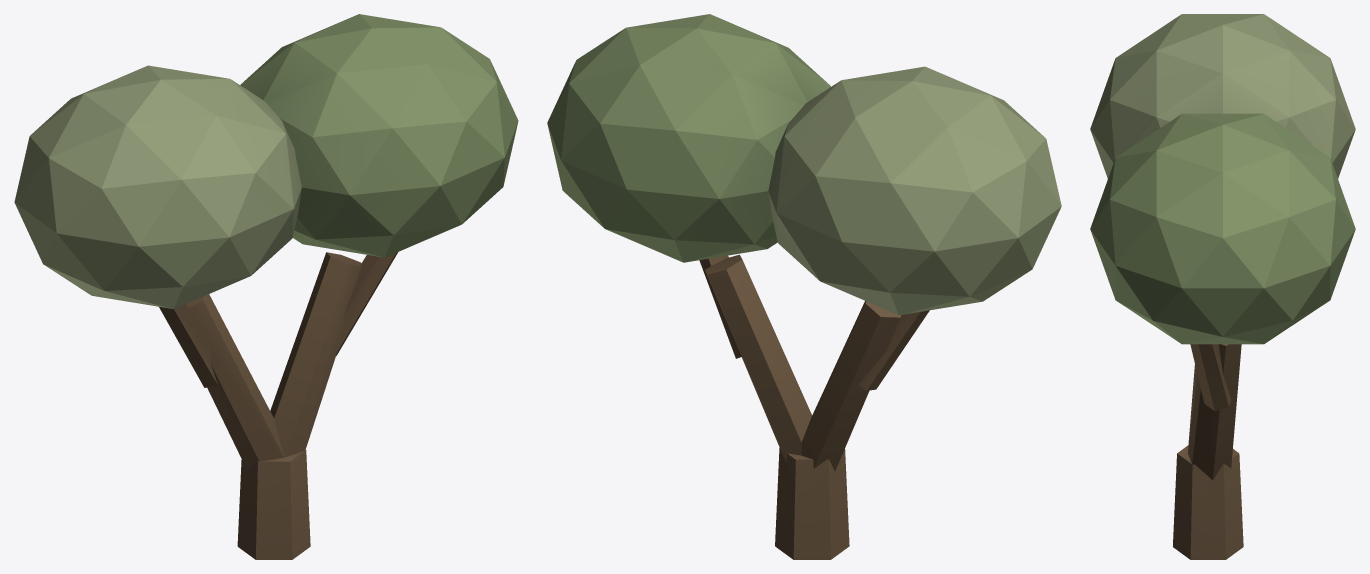
Rendered from split_olive.glb.
3 views of the same model, side by side, from view 1: azimuth 30°, elevation 25°; view 2: azimuth 150°, elevation 25°; view 3: azimuth 270°, elevation 25° (orthographic). The views are drawn at different scales.
Visible parts, largest first — view 1: split_olive; view 2: split_olive; view 3: split_olive.
Part boxes in pixels (x1,y1,x2,y2): split_olive: (14, 14, 518, 559); split_olive: (547, 14, 1061, 559); split_olive: (1090, 14, 1355, 559).
Size of the model in its own units: 3.5 by 3.53 by 1.8.
